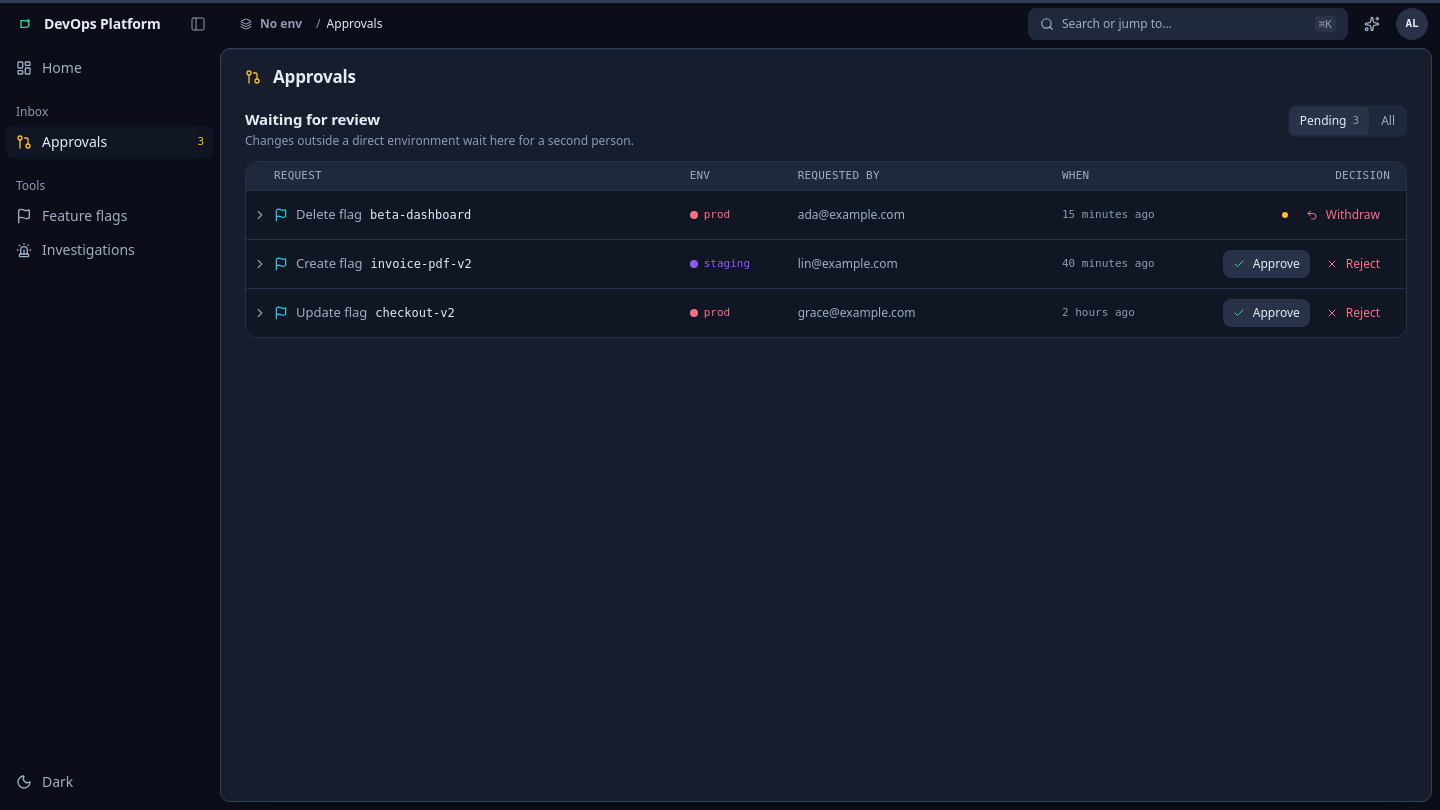
the approvals inbox › applies a change in one press
Click the 2nd button "Approve": (1266, 313) [1223, 299, 1310, 327]
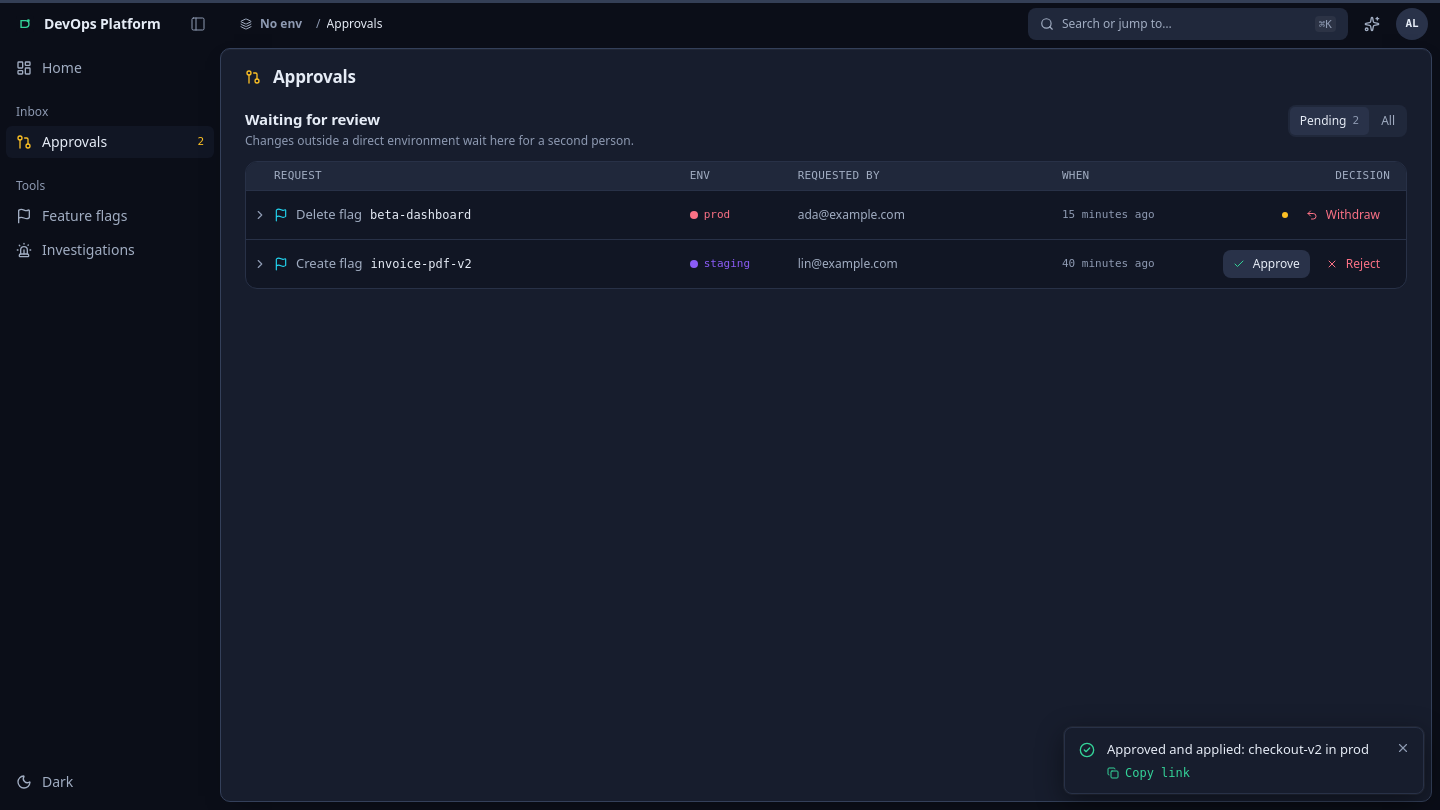
expect the text "Approved and applied: checkout-v2 in prod" is shown: met, box [1107, 740, 1387, 759]
